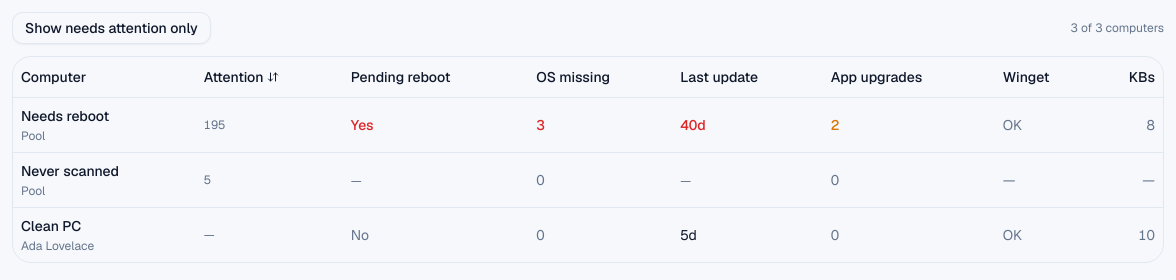
Test: PatchesFleet › the needs-attention filter hides a clean computer
Click the button "Show needs attention only" at (111, 28), box [12, 12, 211, 44]
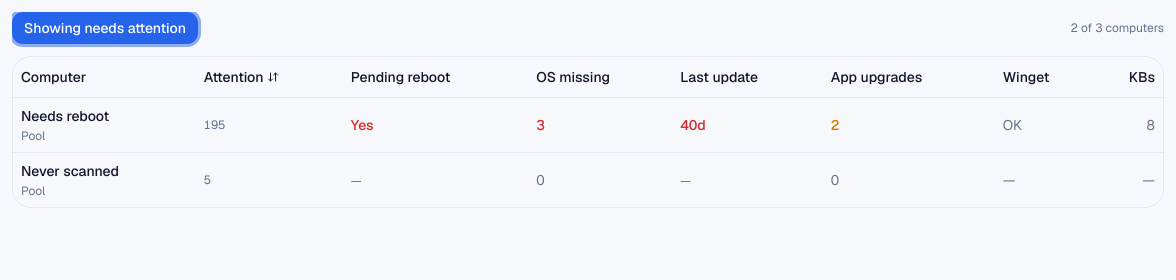
Check: the link "Needs reboot" is shown, box [21, 106, 109, 124]
Check: the link "Clean PC" is gone
Check: the text "2 of 3 computers" is shown, box [1070, 20, 1164, 36]
